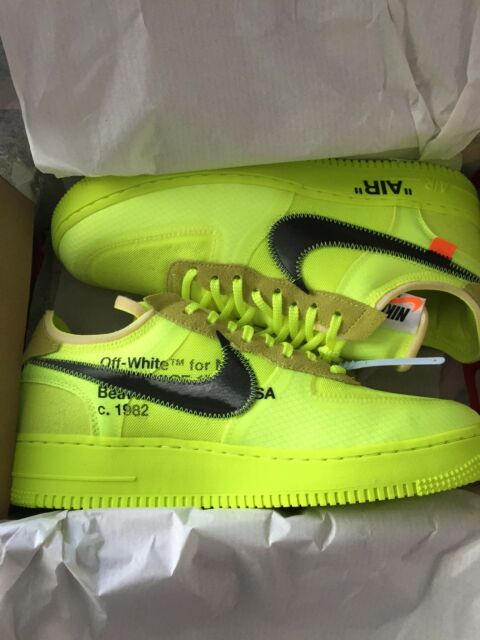Air Force One Volt: (10, 273, 478, 543), (31, 150, 480, 376)
